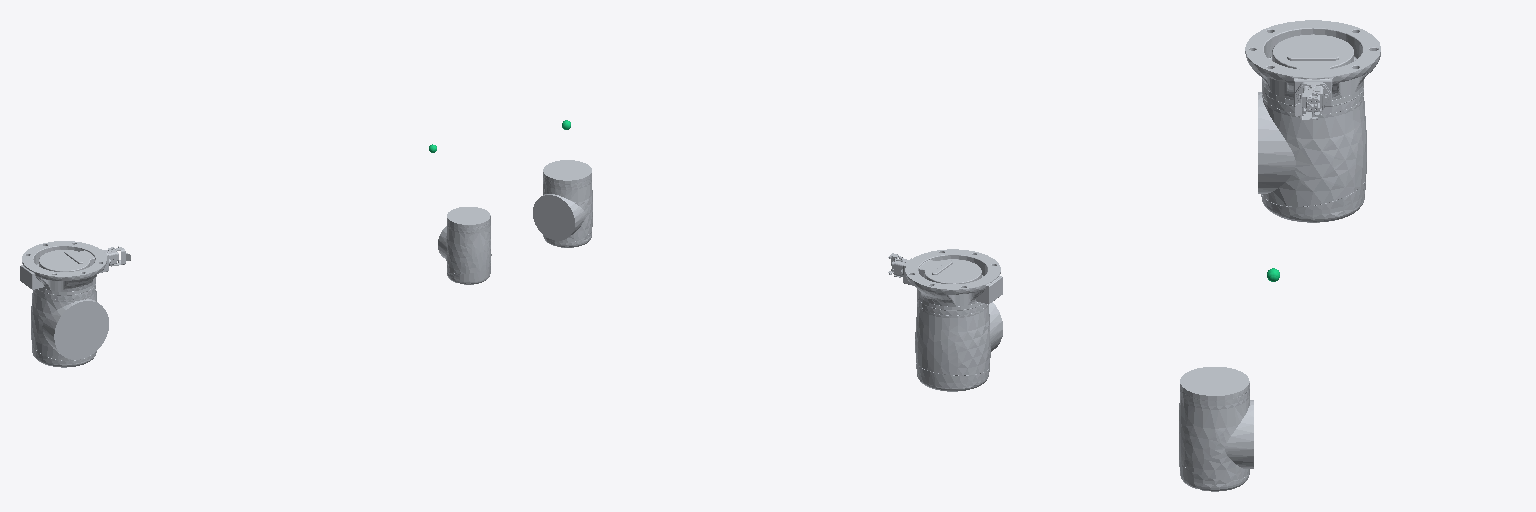
URDF robot description (jaka_zu5_real):
<?xml version="1.0" encoding="utf-8"?>
<robot name="jaka_zu5_real">
  <!-- JAKA zu5 — 真机 CAD（厂商官网 STEP，build_vendor_urdf.py 生成，coord=y_up_mm）。几何为真实外形，运动学（轴/限位）复用程序化 URDF。 -->
  <link name="base_link">
    <visual>
      <origin xyz="0 0 0" rpy="0 0 0"/>
      <geometry><mesh filename="meshes_real/base_link.stl"/></geometry>
      <material name="base_link_m"><color rgba="0.80 0.82 0.85 1"/></material>
    </visual>
    <collision>
      <origin xyz="0 0 0" rpy="0 0 0"/>
      <geometry><mesh filename="meshes_real/base_link.stl"/></geometry>
    </collision>
  </link>
  <link name="link_1">
    <visual>
      <origin xyz="0 0 0" rpy="0 0 0"/>
      <geometry><mesh filename="meshes_real/link_1.stl"/></geometry>
      <material name="link_1_m"><color rgba="0.80 0.82 0.85 1"/></material>
    </visual>
    <collision>
      <origin xyz="0 0 0" rpy="0 0 0"/>
      <geometry><mesh filename="meshes_real/link_1.stl"/></geometry>
    </collision>
  </link>
  <link name="link_2">
    <visual>
      <origin xyz="0 0 0" rpy="0 0 0"/>
      <geometry><mesh filename="meshes_real/link_2.stl"/></geometry>
      <material name="link_2_m"><color rgba="0.80 0.82 0.85 1"/></material>
    </visual>
    <collision>
      <origin xyz="0 0 0" rpy="0 0 0"/>
      <geometry><mesh filename="meshes_real/link_2.stl"/></geometry>
    </collision>
  </link>
  <link name="link_3">
    <visual>
      <origin xyz="0 0 0" rpy="0 0 0"/>
      <geometry><mesh filename="meshes_real/link_3.stl"/></geometry>
      <material name="link_3_m"><color rgba="0.80 0.82 0.85 1"/></material>
    </visual>
    <collision>
      <origin xyz="0 0 0" rpy="0 0 0"/>
      <geometry><mesh filename="meshes_real/link_3.stl"/></geometry>
    </collision>
  </link>
  <link name="link_4">
    <visual>
      <origin xyz="0 0 0" rpy="0 0 0"/>
      <geometry><mesh filename="meshes_real/link_4.stl"/></geometry>
      <material name="link_4_m"><color rgba="0.80 0.82 0.85 1"/></material>
    </visual>
    <collision>
      <origin xyz="0 0 0" rpy="0 0 0"/>
      <geometry><mesh filename="meshes_real/link_4.stl"/></geometry>
    </collision>
  </link>
  <link name="link_5">
    <visual>
      <origin xyz="0 0 0" rpy="0 0 0"/>
      <geometry><mesh filename="meshes_real/link_5.stl"/></geometry>
      <material name="link_5_m"><color rgba="0.80 0.82 0.85 1"/></material>
    </visual>
    <collision>
      <origin xyz="0 0 0" rpy="0 0 0"/>
      <geometry><mesh filename="meshes_real/link_5.stl"/></geometry>
    </collision>
  </link>
  <link name="tool0">
    <visual>
      <origin xyz="0 0 0" rpy="0 0 0"/>
      <geometry><mesh filename="meshes_real/tool0.stl"/></geometry>
      <material name="tool0_m"><color rgba="0.80 0.82 0.85 1"/></material>
    </visual>
    <collision>
      <origin xyz="0 0 0" rpy="0 0 0"/>
      <geometry><mesh filename="meshes_real/tool0.stl"/></geometry>
    </collision>
  </link>
  <link name="tcp">
    <visual>
      <origin xyz="0 0 0" rpy="0 0 0"/>
      <geometry><sphere radius="0.008"/></geometry>
      <material name="tcp_m"><color rgba="0.15 0.85 0.55 1"/></material>
    </visual>
  </link>
  <joint name="joint_1" type="revolute">
    <parent link="base_link"/>
    <child link="link_1"/>
    <origin xyz="0.0584219 -0.00570737 -0.04" rpy="0 0 0"/>
    <axis xyz="0 0 1"/>
    <limit lower="-6.28318" upper="6.28318" effort="70" velocity="3.14159"/>
  </joint>
  <joint name="joint_2" type="revolute">
    <parent link="link_1"/>
    <child link="link_2"/>
    <origin xyz="-0.0527145 -0.0582926 -0.138572" rpy="0 0 0"/>
    <axis xyz="0 1 0"/>
    <limit lower="-1.48353" upper="4.62512" effort="70" velocity="3.14159"/>
  </joint>
  <joint name="joint_3" type="revolute">
    <parent link="link_2"/>
    <child link="link_3"/>
    <origin xyz="0.365317 7.10543e-15 0.0600615" rpy="0 0 0"/>
    <axis xyz="0 1 0"/>
    <limit lower="-3.05433" upper="3.05433" effort="70" velocity="3.14159"/>
  </joint>
  <joint name="joint_4" type="revolute">
    <parent link="link_3"/>
    <child link="link_4"/>
    <origin xyz="0.386977 -0.0045 -0.00162779" rpy="0 0 0"/>
    <axis xyz="0 0 1"/>
    <limit lower="-1.48353" upper="4.62512" effort="70" velocity="3.14159"/>
  </joint>
  <joint name="joint_5" type="revolute">
    <parent link="link_4"/>
    <child link="link_5"/>
    <origin xyz="0.0453817 -0.00529529 0.068" rpy="0 0 0"/>
    <axis xyz="0 1 0"/>
    <limit lower="-6.28318" upper="6.28318" effort="70" velocity="3.14159"/>
  </joint>
  <joint name="joint_6" type="revolute">
    <parent link="link_5"/>
    <child link="tool0"/>
    <origin xyz="-0.0422989 0.0277953 0.0609987" rpy="0 0 0"/>
    <axis xyz="0 0 1"/>
    <limit lower="-6.28318" upper="6.28318" effort="70" velocity="3.14159"/>
  </joint>
  <joint name="tcp_joint" type="fixed">
    <parent link="tool0"/>
    <child link="tcp"/>
    <origin xyz="0 0 0.05724" rpy="0 0 0"/>
  </joint>
</robot>

--- Facts derived from the render (not from the file) ---
Views: 3 orthographic renders of the robot side by side, from view 1: azimuth 30°, elevation 25°; view 2: azimuth 150°, elevation 25°; view 3: azimuth 270°, elevation 25°.
Robot: jaka_zu5_real — 8 links, 7 joints (6 revolute, 1 fixed); root link base_link; default pose: all joints at 0.
Links seen in each view (by area): view 1: link_1, base_link, link_4; view 2: link_1, base_link, link_4; view 3: link_1, base_link, link_4.
Link boxes in pixels (left/top/right/bottom): link_1: left=31, top=282, right=108, bottom=367; base_link: left=20, top=241, right=130, bottom=291; link_4: left=438, top=207, right=491, bottom=284; link_1: left=915, top=293, right=1002, bottom=391; base_link: left=888, top=249, right=1002, bottom=306; link_4: left=533, top=160, right=592, bottom=247; link_1: left=1258, top=81, right=1366, bottom=222; base_link: left=1245, top=20, right=1380, bottom=120; link_4: left=1179, top=367, right=1253, bottom=491.
Bounding box of the posed robot: 0.9227 × 0.235 × 0.2718 m (x, y, z).
3 mesh visuals loaded from 7 distinct referenced files (3 binary STL); not drawn: 4 (reference not matched to a file when rendering).
